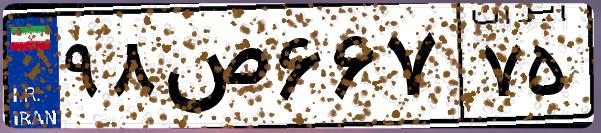5: (525, 38, 570, 115)
6: (270, 28, 330, 110), (330, 28, 385, 110)
7: (385, 28, 445, 110), (475, 38, 525, 113)
8: (110, 28, 158, 98)
9: (57, 26, 110, 100)
ص: (158, 20, 270, 120)
